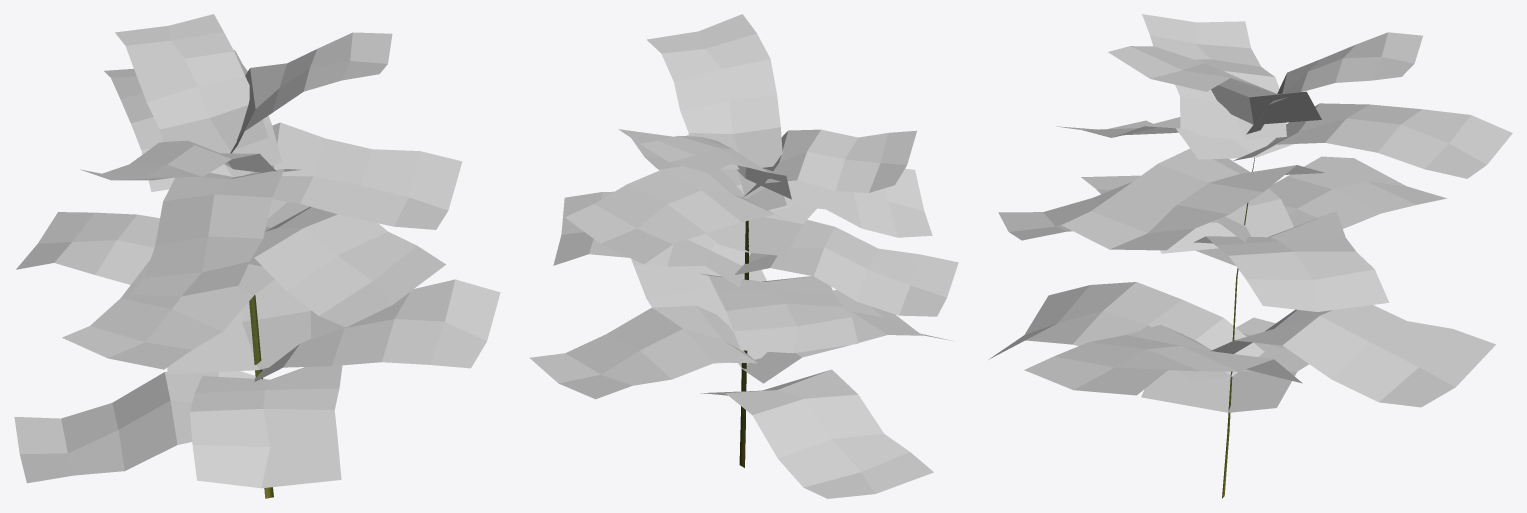
Rendered from HazlenutShrub2.fbx.
The picture shows the model from 3 angles, left to right: view 1: azimuth 30°, elevation 25°; view 2: azimuth 150°, elevation 25°; view 3: azimuth 270°, elevation 25°; orthographic projection. The views are drawn at different scales.
Visible parts, largest first — view 1: HazlenutShrub2; view 2: HazlenutShrub2; view 3: HazlenutShrub2.
Part boxes in pixels (x1,y1,x2,y2): HazlenutShrub2: (14, 14, 500, 498); HazlenutShrub2: (529, 14, 958, 498); HazlenutShrub2: (988, 14, 1512, 498).
Bounding box in the file's own units: 180 × 186 × 187.
